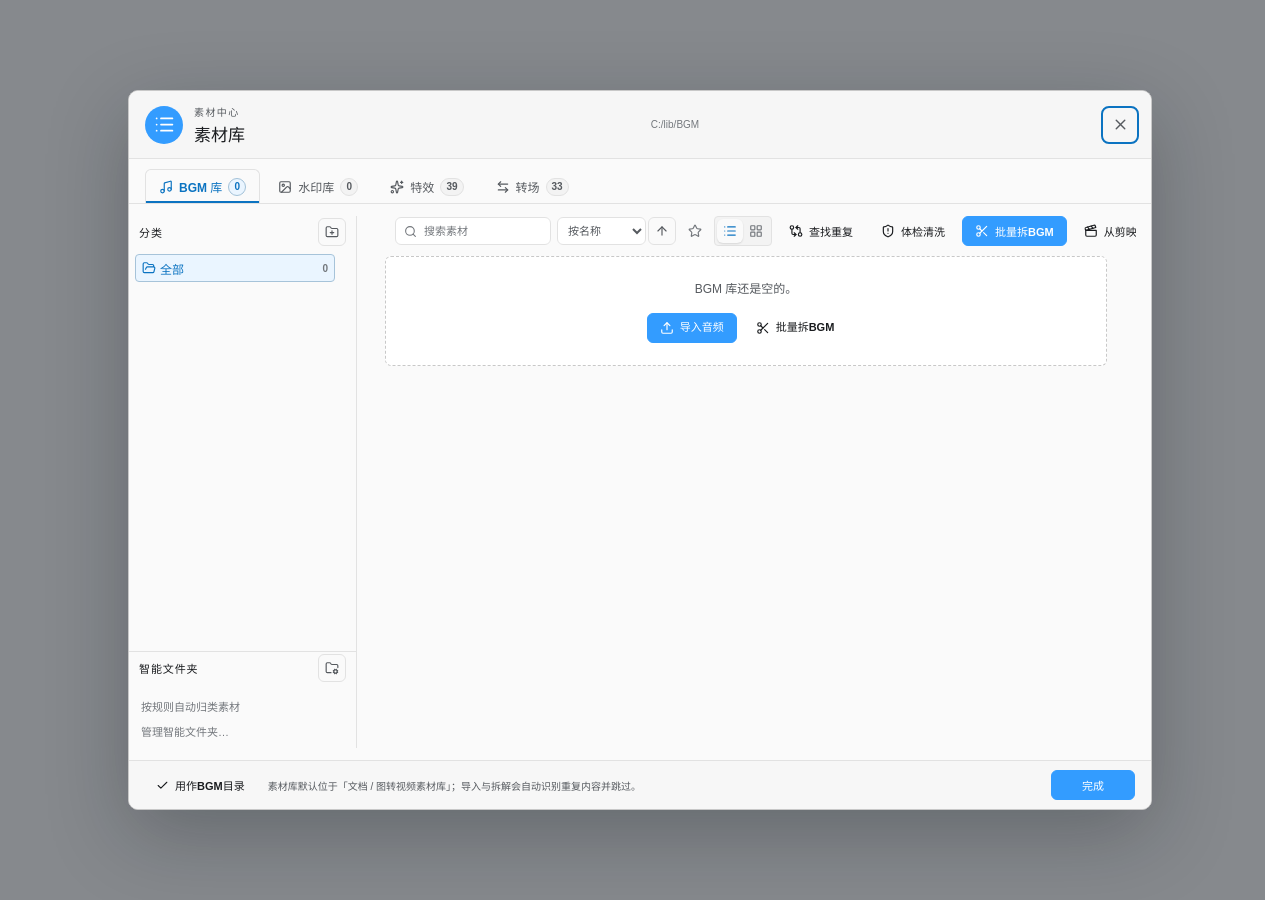
Test: 假字幕轨体检清洗 › 未选中文件时清洗按钮禁用
This screenshot has width=1280, height=900.
Click the button "体检清洗".
click(913, 231)  # box left=870, top=216, right=956, bottom=246
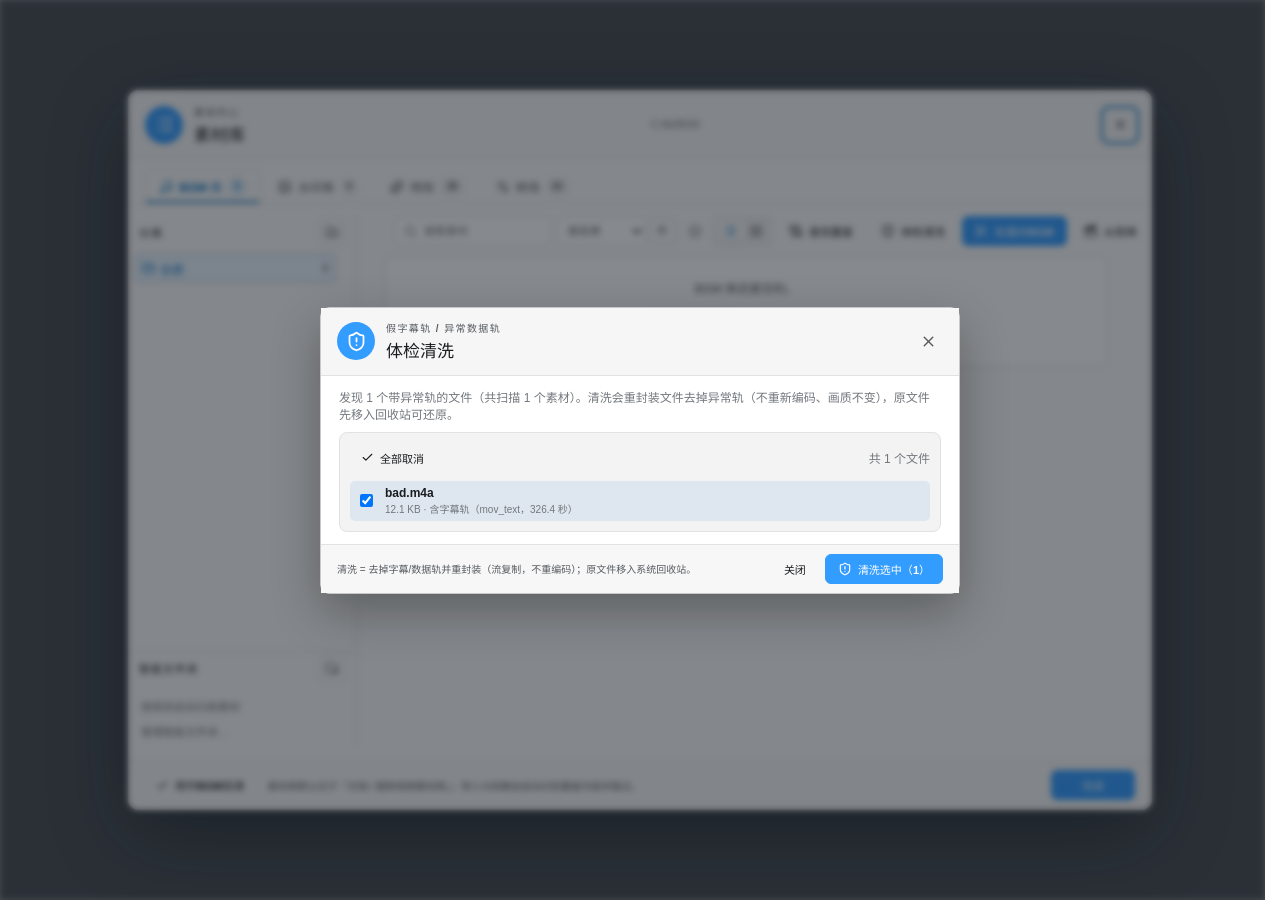
默认全选 → 取消全部勾选后按钮应禁用
Click the button "全部取消".
click(392, 458)  # box left=350, top=442, right=435, bottom=472
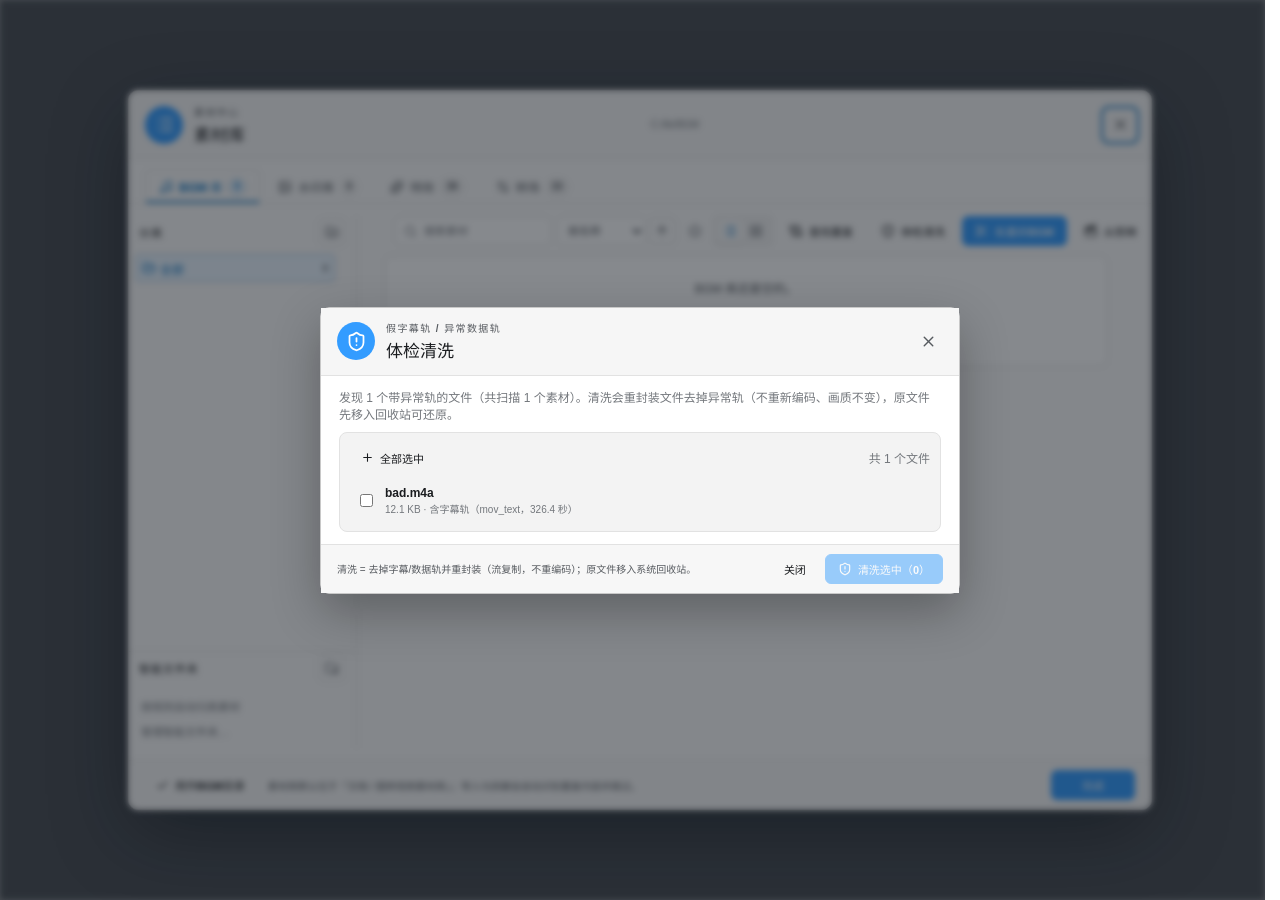
Now the button "清洗选中（0）" is disabled, box left=825, top=554, right=943, bottom=584
